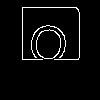O: (26, 23, 70, 74)
